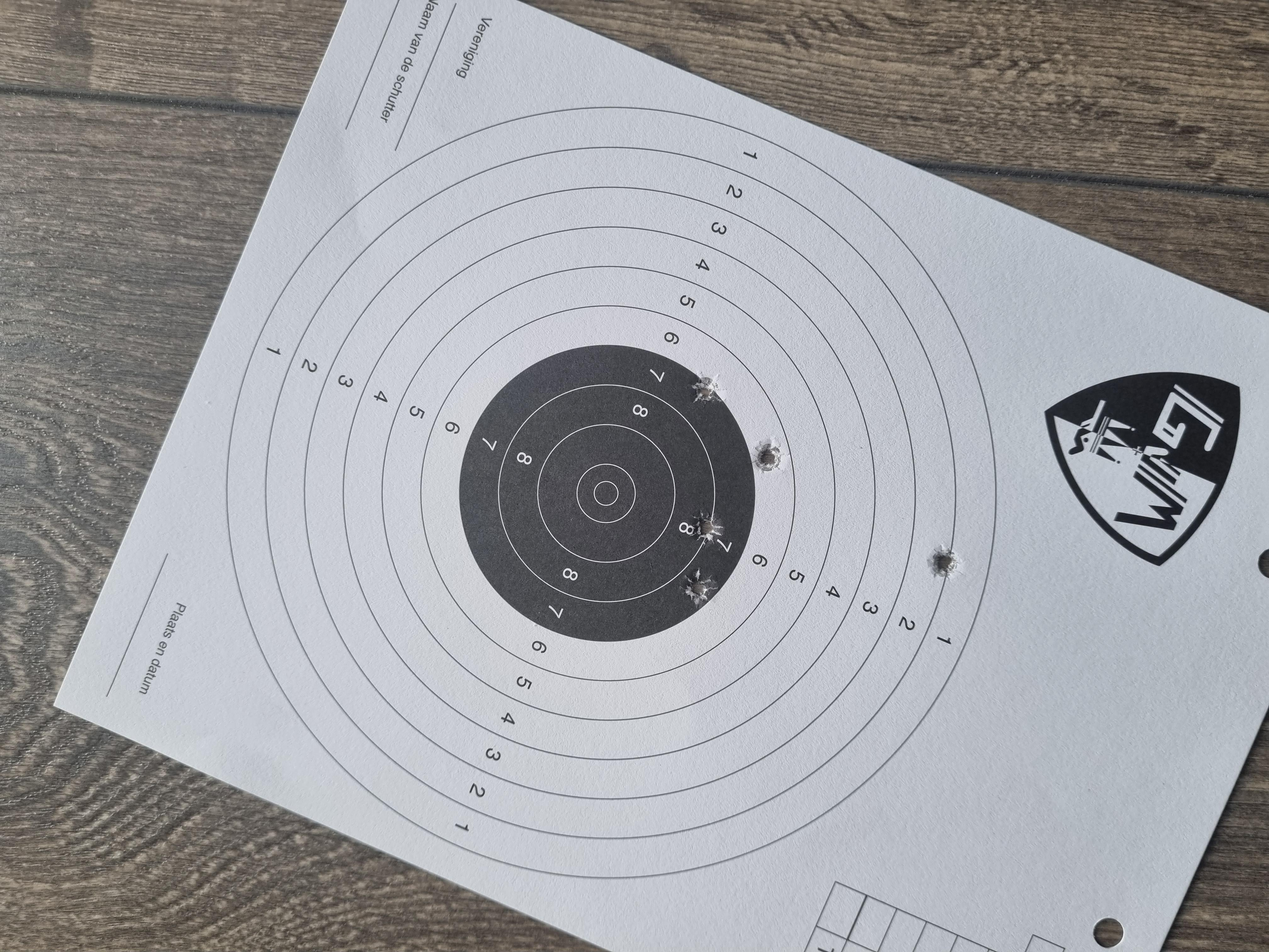hole: (461, 512, 509, 538), (541, 519, 586, 542), (730, 520, 772, 542), (640, 566, 679, 586), (498, 699, 536, 718)
